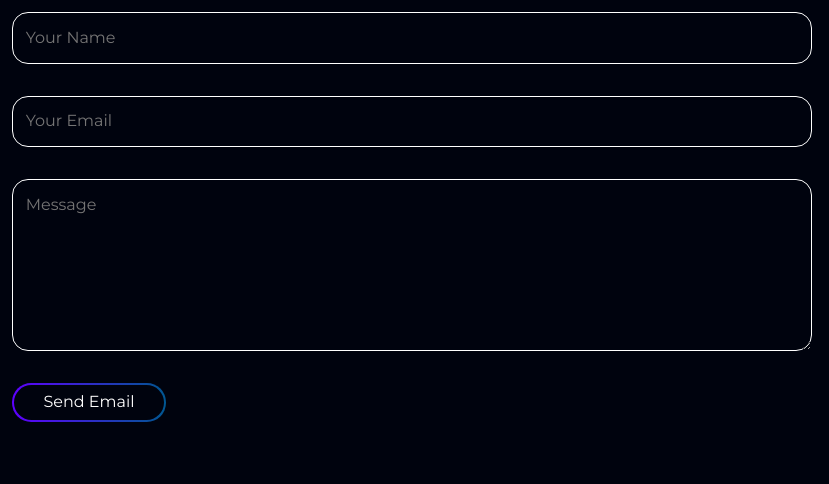
Scenario: blocks submission and reports both errors when the form is empty
What coordinates should you click on to do the following:
click the button "Send Email"
I would click on:
 (89, 402)
Its box is x1=14 y1=385 x2=164 y2=420.
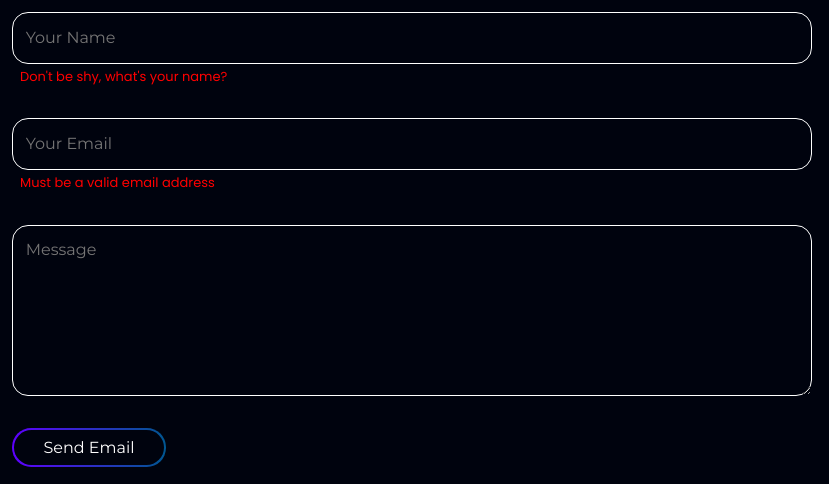
Expected: the text "Don't be shy, what's your name?" is shown, x1=20 y1=67 x2=227 y2=86
Expected: the text "Must be a valid email address" is shown, x1=20 y1=173 x2=215 y2=192
